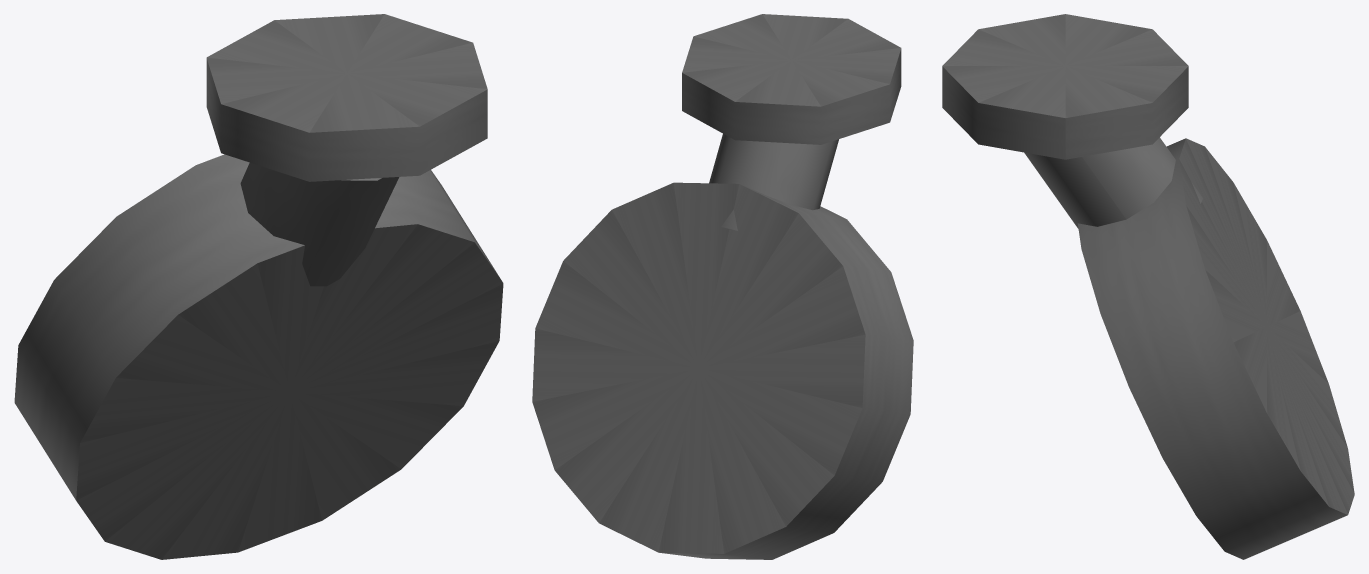
Rendered from mastarmcurve_6x2_c2_up.obj.
The picture shows the model from 3 angles, left to right: view 1: azimuth 30°, elevation 25°; view 2: azimuth 150°, elevation 25°; view 3: azimuth 270°, elevation 25°; orthographic projection. The views are drawn at different scales.
Visible parts, largest first — view 1: mastarm_6x2_c2_up; view 2: mastarm_6x2_c2_up; view 3: mastarm_6x2_c2_up.
Part boxes in pixels (box(x1,y1,x2,y2)): mastarm_6x2_c2_up: box(14, 14, 503, 559); mastarm_6x2_c2_up: box(532, 14, 913, 559); mastarm_6x2_c2_up: box(942, 14, 1354, 559).
Size of the model in its own units: 0.6657 by 0.8475 by 0.6693.
